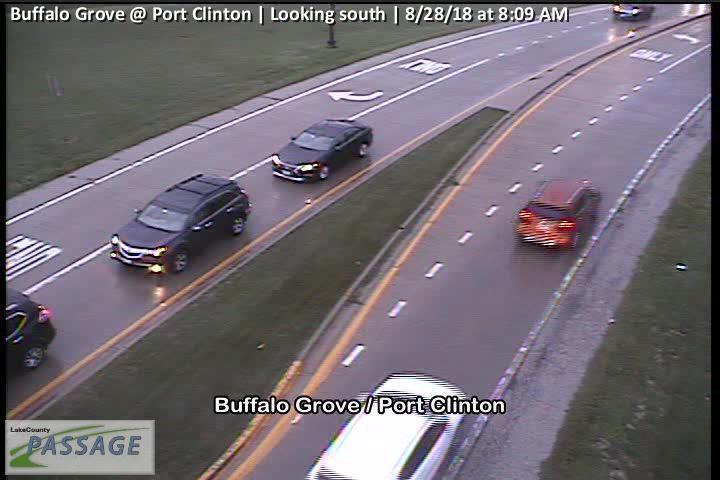SUV: (293, 373, 470, 480), (108, 173, 249, 275), (514, 175, 601, 249), (1, 284, 57, 375)
Sedan: (271, 118, 373, 182), (613, 1, 655, 22)
